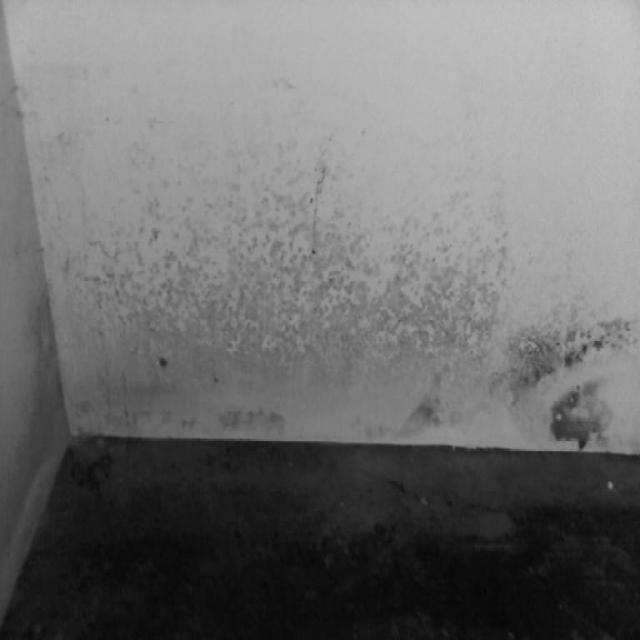stain marks: (10, 38, 638, 449), (0, 450, 63, 559)
